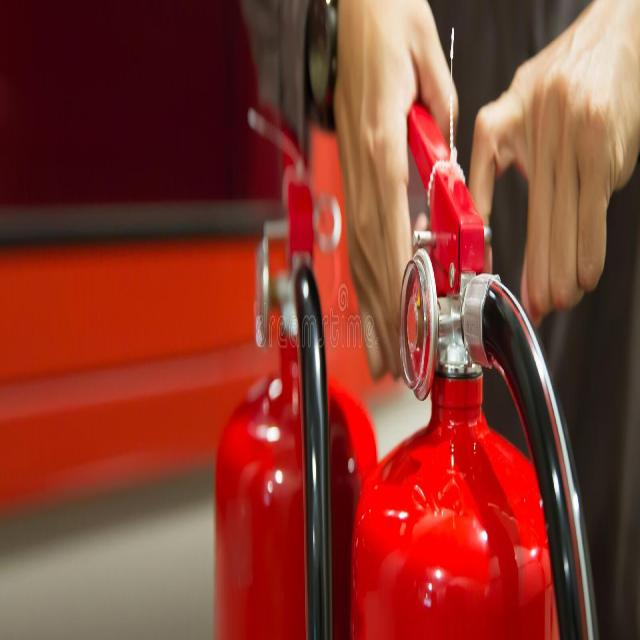fire_extinguisher: (343, 56, 631, 639), (204, 80, 386, 639)
